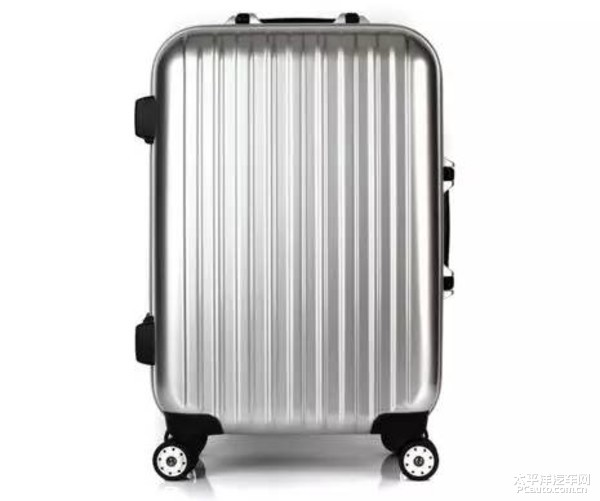luggage: (133, 13, 458, 483)
